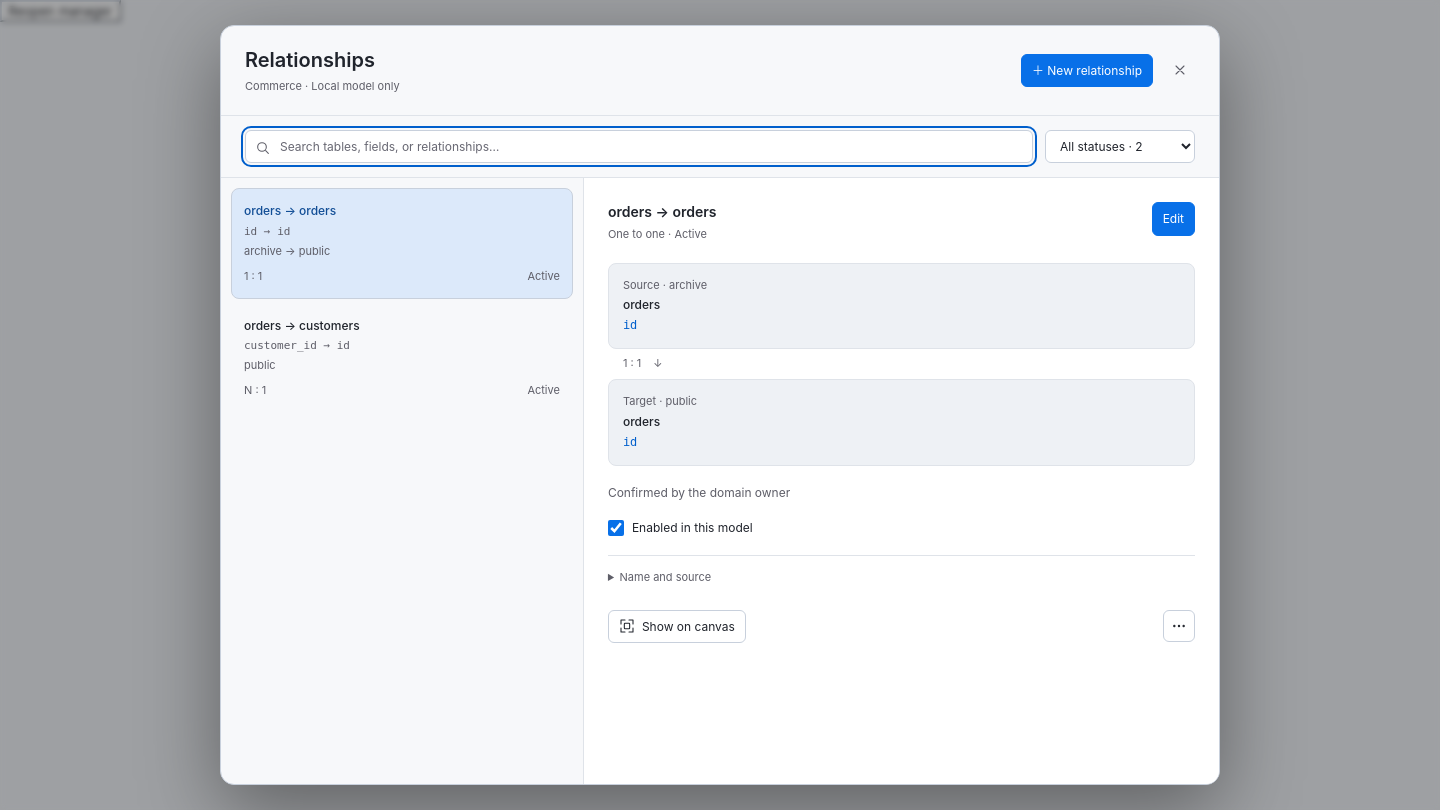
Test: RelationshipManager › shows toggle failures in the detail pane without closing it
The width and height of the screenshot is (1440, 810).
Click the checkbox labelled "Enabled in this model": (616, 528) [608, 520, 624, 536]
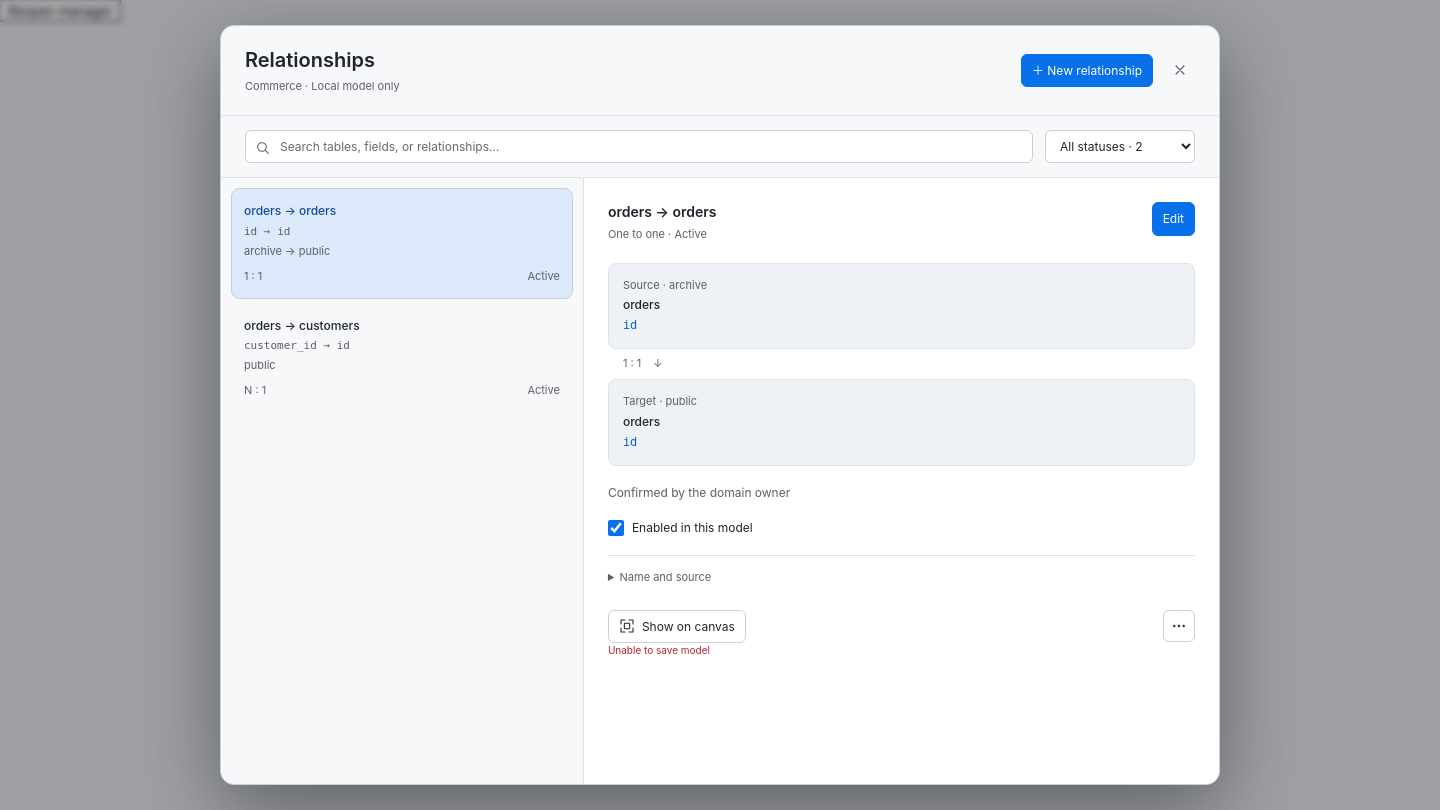
expect the message reads "Unable to save model": met, box [608, 644, 710, 656]
